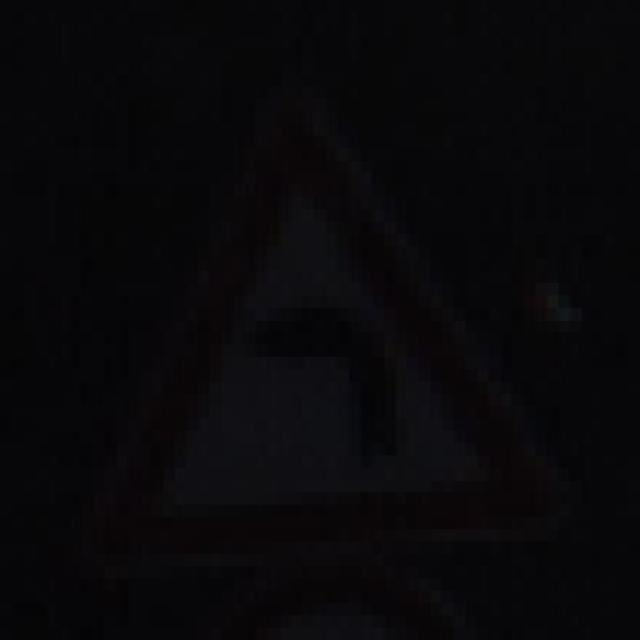Dangerous Left Curve Ahead: (128, 120, 548, 575)
